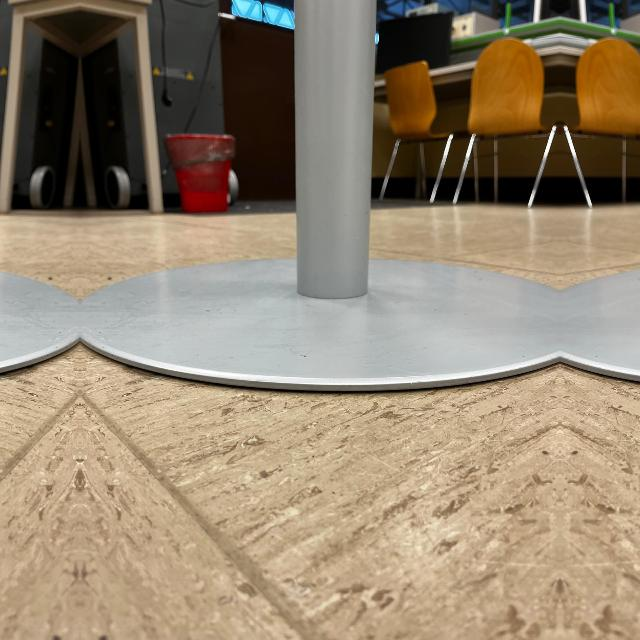obstacle: (80, 0, 560, 388), (560, 0, 640, 388), (0, 0, 79, 388)
